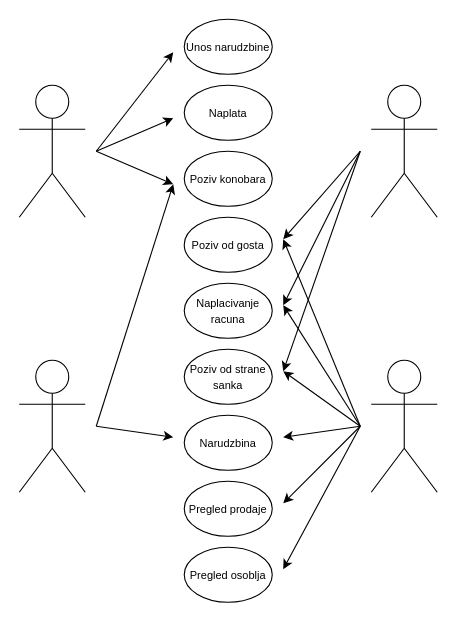
Some shapes in this 457 by 622 pixel diagram are drawn without their labels. The shapes that lost their labels are listed below. From the top down, each one's centre as x and y in pixels, then its label:
At point (51, 150): "Gost".
At point (403, 150): "Konobar".
At point (51, 425): "Sanker".
At point (403, 425): "Menadzer".
